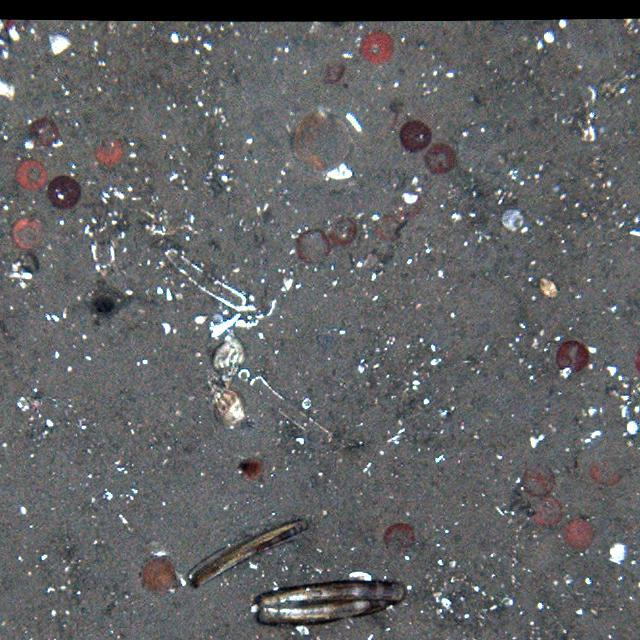scallop: (287, 105, 355, 174)
